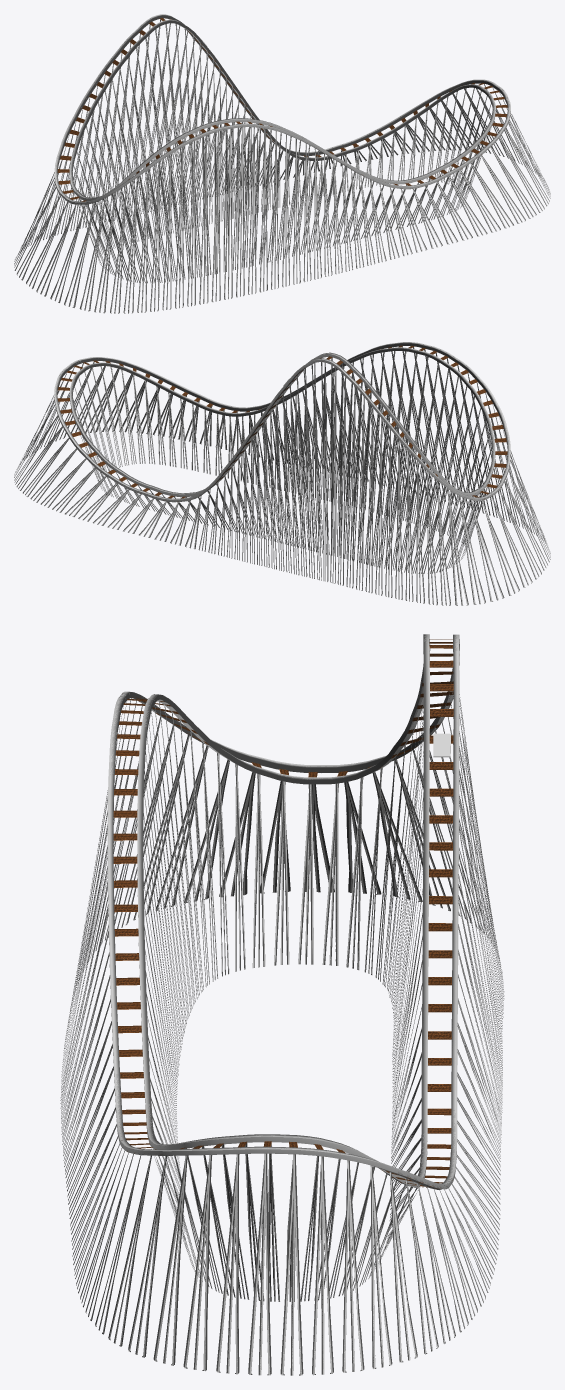
Rendered from RollerCos.FBX.
The picture shows the model from 3 angles, top to bottom: view 1: azimuth 30°, elevation 25°; view 2: azimuth 150°, elevation 25°; view 3: azimuth 270°, elevation 25°; orthographic projection. The views are drawn at different scales.
Parts seen in each view (by area): view 1: SupportFrame, Rails; view 2: SupportFrame, Rails; view 3: SupportFrame, Rails.
Part boxes in pixels (left/top/right/bottom): SupportFrame: left=14, top=19, right=550, bottom=313; Rails: left=54, top=14, right=510, bottom=204; SupportFrame: left=14, top=346, right=550, bottom=605; Rails: left=54, top=342, right=510, bottom=502; SupportFrame: left=60, top=651, right=504, bottom=1375; Rails: left=107, top=634, right=459, bottom=1189.
Bounding box in the file's own units: 5774 × 2292 × 2237.
Materials: 2 (2 with a texture image).
